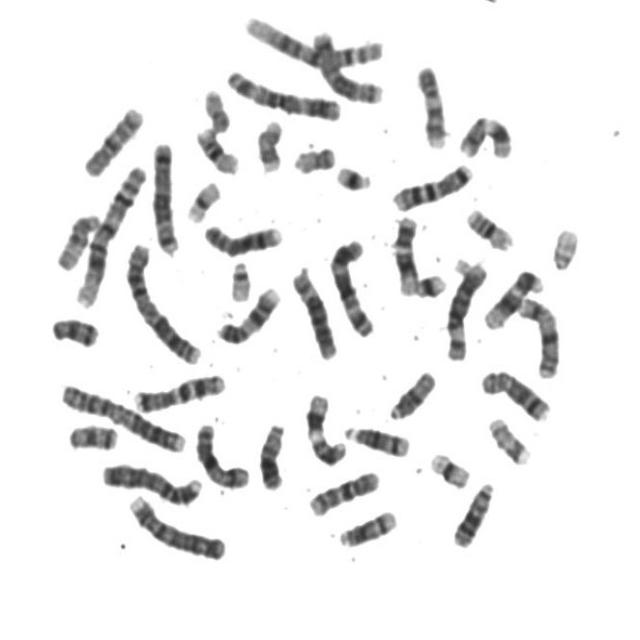A1: (71, 158, 151, 310), (240, 6, 388, 72)
A2: (122, 235, 205, 366), (57, 376, 190, 455)
A3: (221, 61, 346, 122), (325, 231, 379, 339)
B4: (125, 487, 230, 563), (98, 455, 207, 508)
B5: (308, 23, 387, 105), (148, 134, 185, 256)
C10: (79, 98, 148, 178), (304, 463, 384, 518)
C11: (302, 385, 351, 468), (454, 108, 516, 160)
C12: (481, 262, 548, 330), (390, 209, 424, 297)
C6: (441, 253, 491, 363), (288, 261, 341, 361)
C7: (388, 156, 477, 212), (131, 366, 229, 415)
C8: (477, 362, 554, 423), (199, 215, 286, 258)
C9: (214, 280, 284, 346), (412, 58, 451, 150)
D13: (448, 474, 499, 550), (255, 416, 290, 492)
D14: (336, 503, 402, 549), (340, 417, 414, 458)
D15: (52, 206, 104, 273), (385, 363, 440, 422)
E16: (192, 119, 242, 177), (462, 202, 517, 252)
E17: (484, 410, 535, 467), (253, 113, 287, 174)
E18: (48, 308, 102, 349), (64, 417, 122, 453)
F19: (425, 444, 475, 489), (183, 174, 224, 224)
F20: (290, 138, 339, 176), (199, 81, 234, 134)
G21: (332, 157, 376, 193), (407, 265, 451, 300)
G22: (547, 220, 583, 272), (225, 255, 255, 303)
X: (514, 290, 565, 380), (192, 416, 254, 490)
